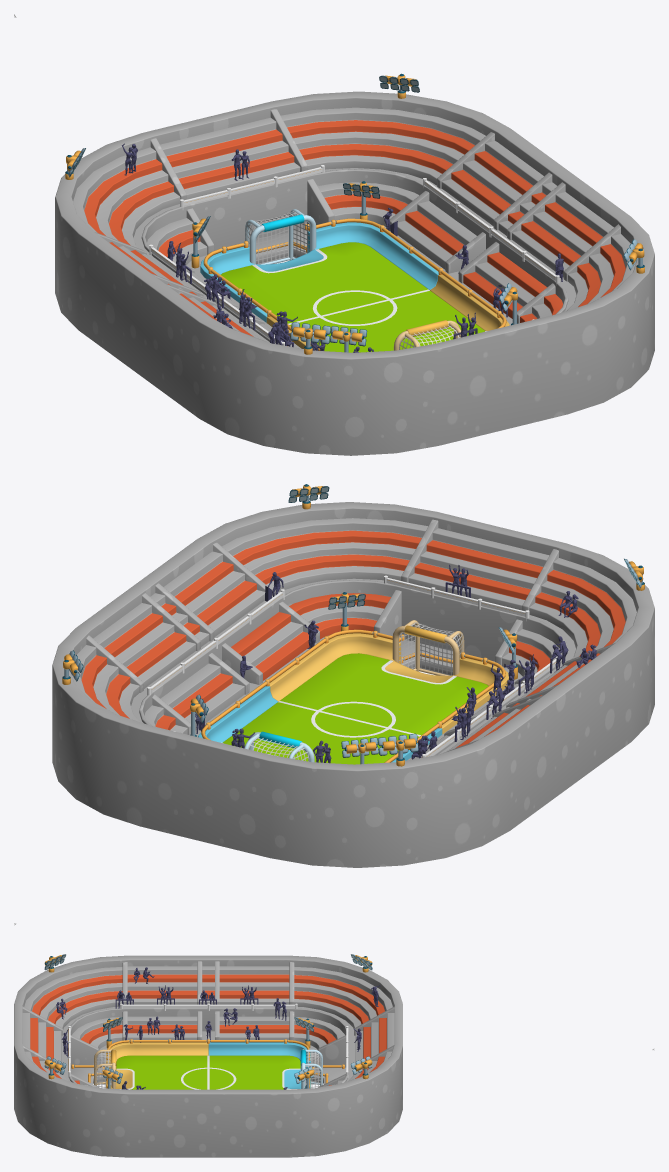
The picture shows the model from 3 angles, top to bottom: view 1: azimuth 30°, elevation 25°; view 2: azimuth 150°, elevation 25°; view 3: azimuth 270°, elevation 25°; orthographic projection. The views are drawn at different scales.
Parts seen in each view (by area): view 1: Level10VisualsExtra_stands_wall_0; view 2: Level10VisualsExtra_stands_wall_0; view 3: Level10VisualsExtra_stands_wall_0.
Part boxes in pixels (bbox=[...]): Level10VisualsExtra_stands_wall_0: bbox=[14, 14, 654, 455]; Level10VisualsExtra_stands_wall_0: bbox=[14, 484, 654, 925]; Level10VisualsExtra_stands_wall_0: bbox=[14, 954, 654, 1157].
Size of the model in its own units: 47.92 by 13.94 by 93.59.
19 materials, 4 textured.
